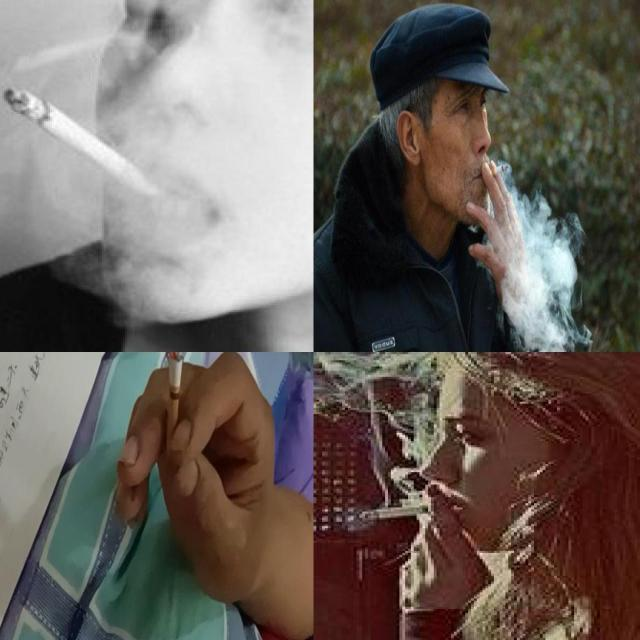smoking: (2, 86, 150, 194), (166, 352, 187, 459), (358, 500, 453, 522), (482, 164, 508, 181)
